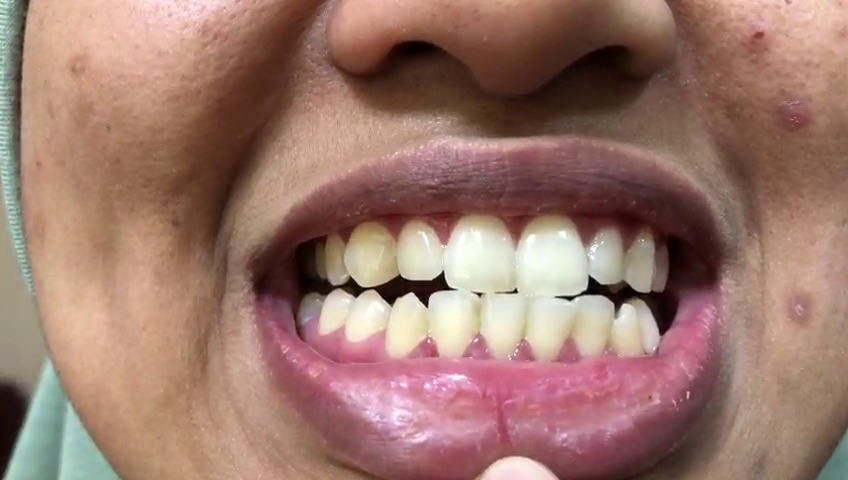1st Molar: (296, 293, 326, 331)
1st Premolar: (346, 288, 387, 345), (630, 299, 664, 359), (323, 223, 349, 285), (653, 244, 670, 294)
2nd Premolar: (318, 290, 353, 341)
Canine: (342, 219, 398, 288), (384, 291, 429, 359), (626, 222, 657, 294), (612, 303, 642, 361)
Central Incisor: (516, 214, 588, 296), (443, 211, 516, 291), (527, 294, 574, 361), (480, 291, 525, 360)
Lateral Incisor: (428, 289, 479, 362), (396, 219, 444, 282), (572, 294, 613, 362), (587, 219, 627, 283)
